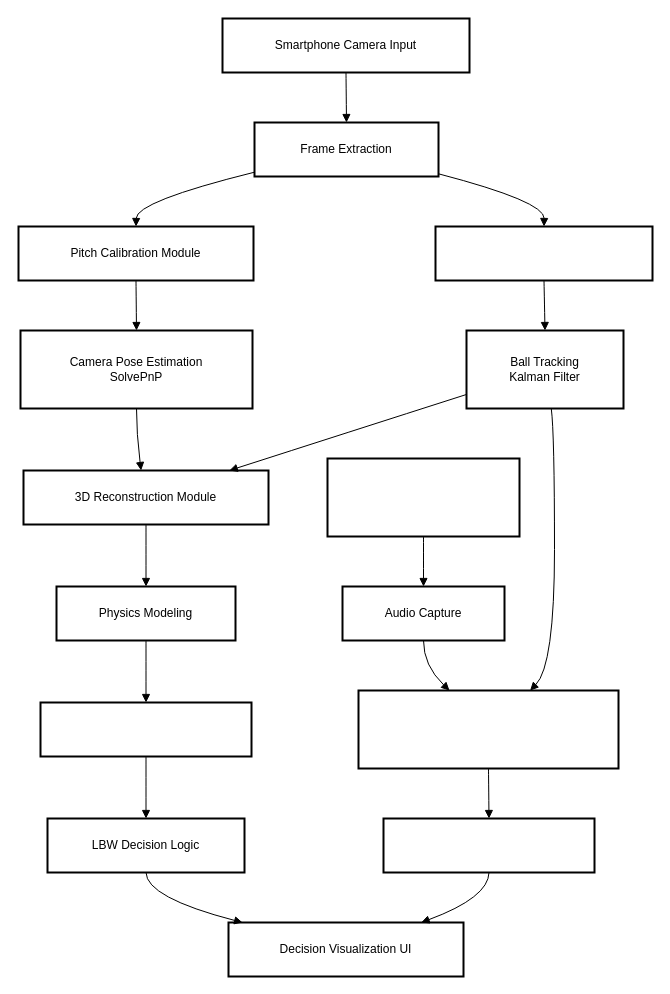
The diagram is 670 pixels wide and 994 high, and some of its shapes have lost their labels. Here are the shapes that lost their labels. From the top down, the box of each, then its label:
(434, 225, 653, 281): Ball Detection Module
(326, 457, 520, 537): Secondary Phone Stump Microphone
(39, 701, 252, 757): Trajectory Prediction
(357, 689, 619, 769): Audio Video Synchronization
(382, 817, 595, 873): Edge Detection Logic
